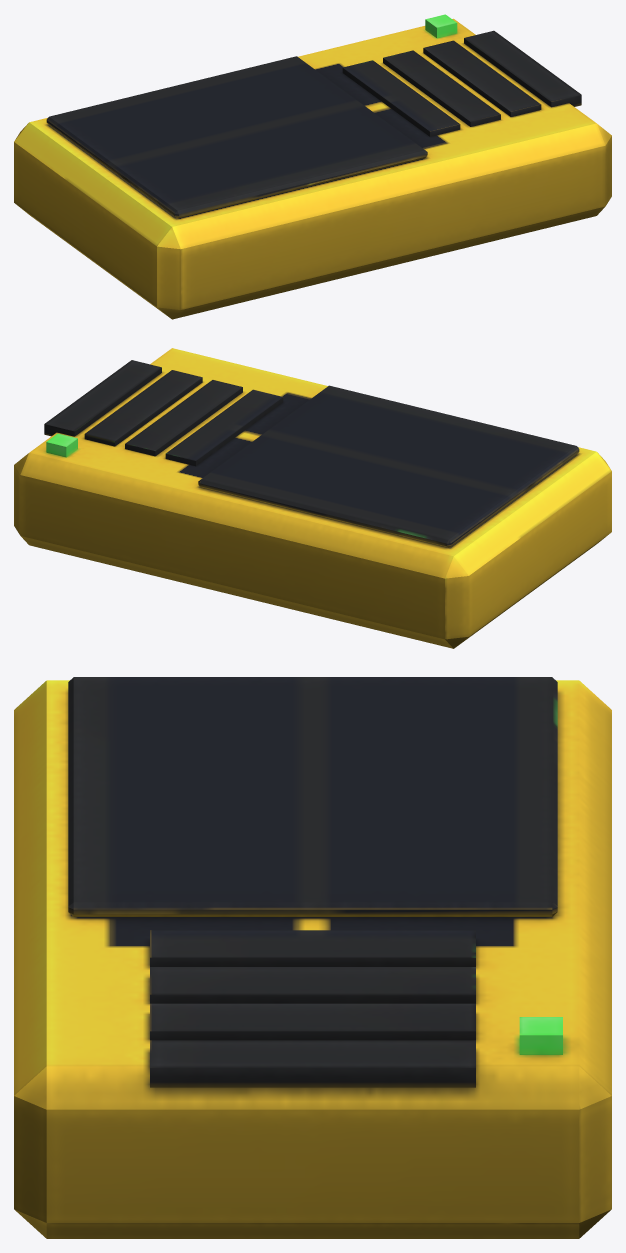
Rendered from RenewableEnergy_SolarCellCharger.fbx.
3 views of the same model, one above another, from view 1: azimuth 30°, elevation 25°; view 2: azimuth 150°, elevation 25°; view 3: azimuth 270°, elevation 25° (orthographic). The views are drawn at different scales.
Parts seen in each view (by area): view 1: SolarCellCharger; view 2: SolarCellCharger; view 3: SolarCellCharger.
Boxes of the visible parts, x1,y1,x2,y2 form: SolarCellCharger: (14, 14, 611, 319); SolarCellCharger: (14, 348, 611, 648); SolarCellCharger: (14, 677, 611, 1238).
Size of the model in its own units: 0.18 by 0.039 by 0.11.
